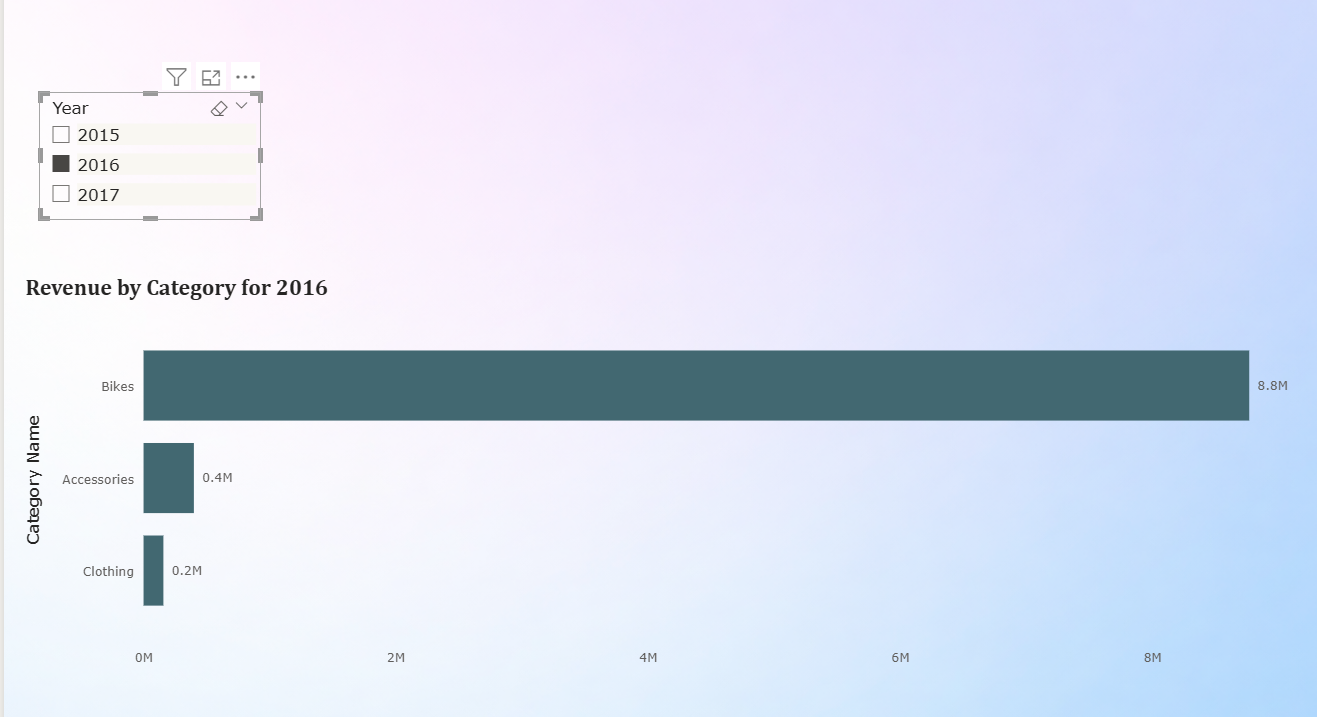

What the dashboard file says about the page in this screenshot:
{"tool":"powerbi","page":{"name":"Page 1","canvas":[1280,720],"ordinal":6},"visuals":[{"type":"barChart","fields":{"Category":["d-Categories.Category Name"],"Y":["All Measures.Revenue"]},"box":[15.7,282.3,1245,387.3],"z":0},{"type":"slicer","fields":{"Values":["d-Calendar.Year"]},"box":[33.8,106.2,214.7,123.1],"z":1000}]}

Visuals, with their boxes on the page's 1280x720 design canvas (x1, y1, x2, y2). These are canvas units, not pixel positions in the 1317x717 screenshot, which may show the page scaled, cropped or inside an application window:
barChart - d-Categories.Category Name x All Measures.Revenue: bbox=(16, 282, 1261, 670)
slicer - d-Calendar.Year: bbox=(34, 106, 248, 229)
